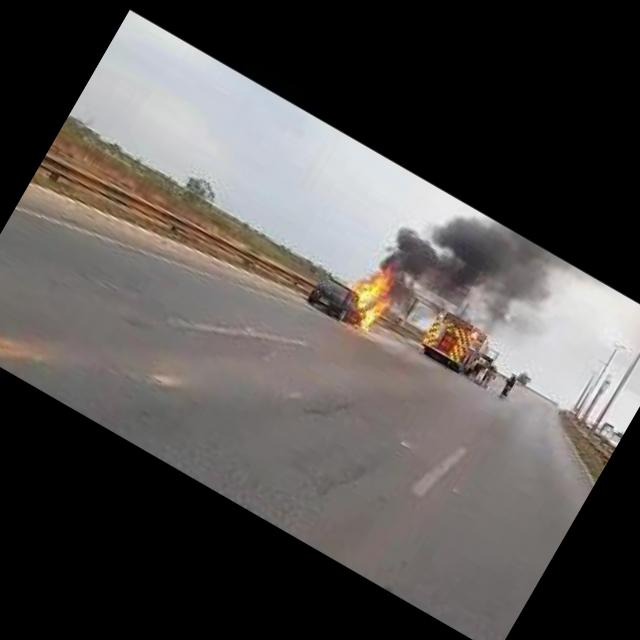fire: (366, 176, 584, 366), (331, 256, 405, 337)
